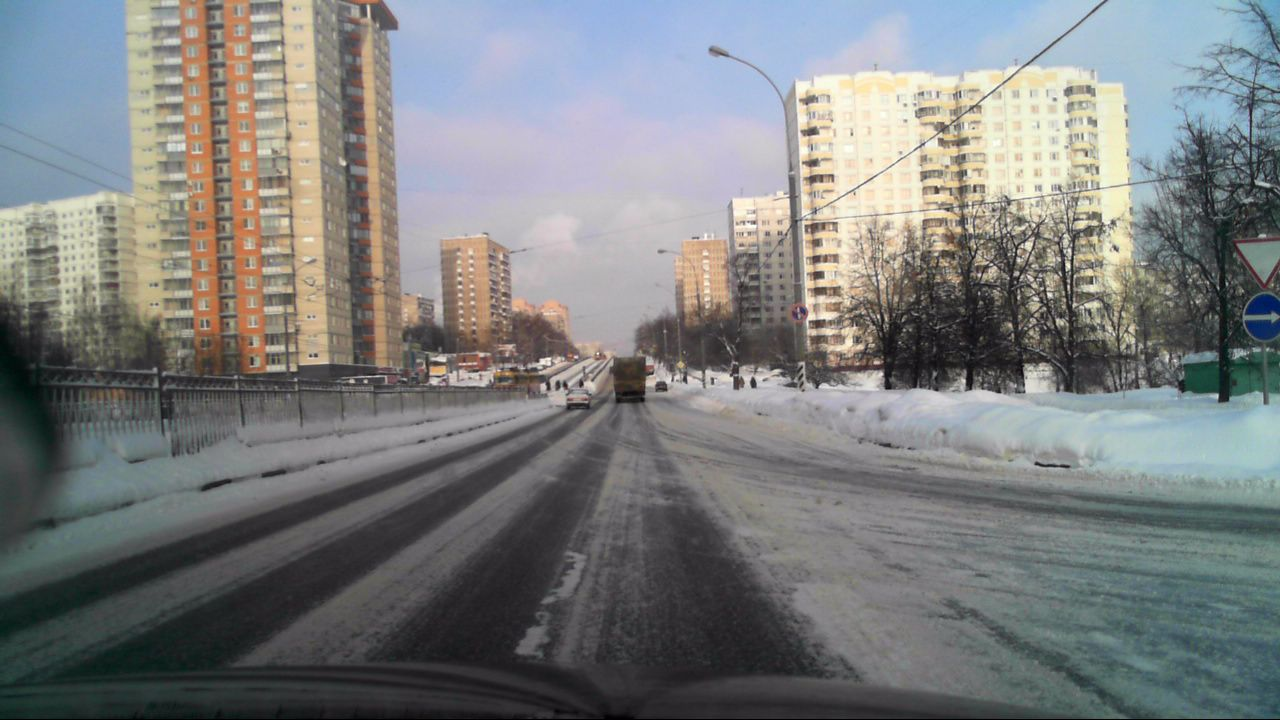Turn Right: (1242, 292, 1280, 342)
